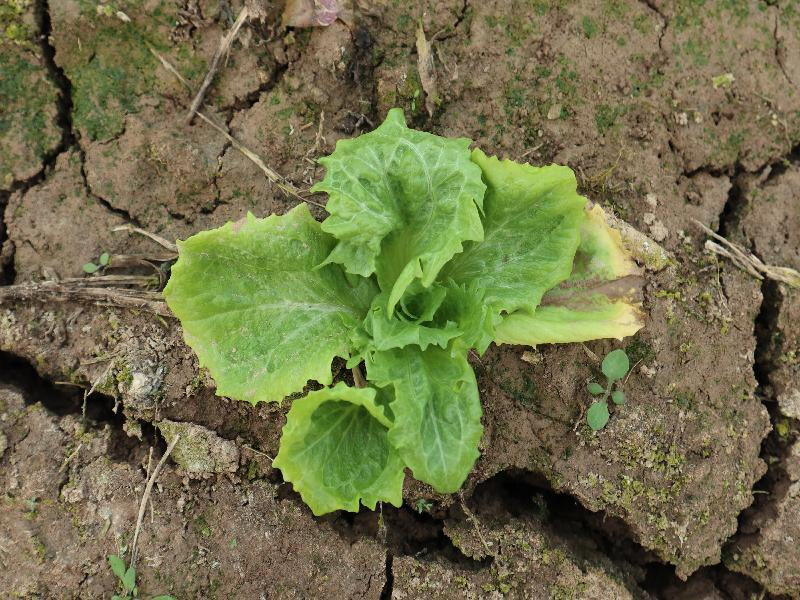lettuce: (162, 105, 644, 515)
